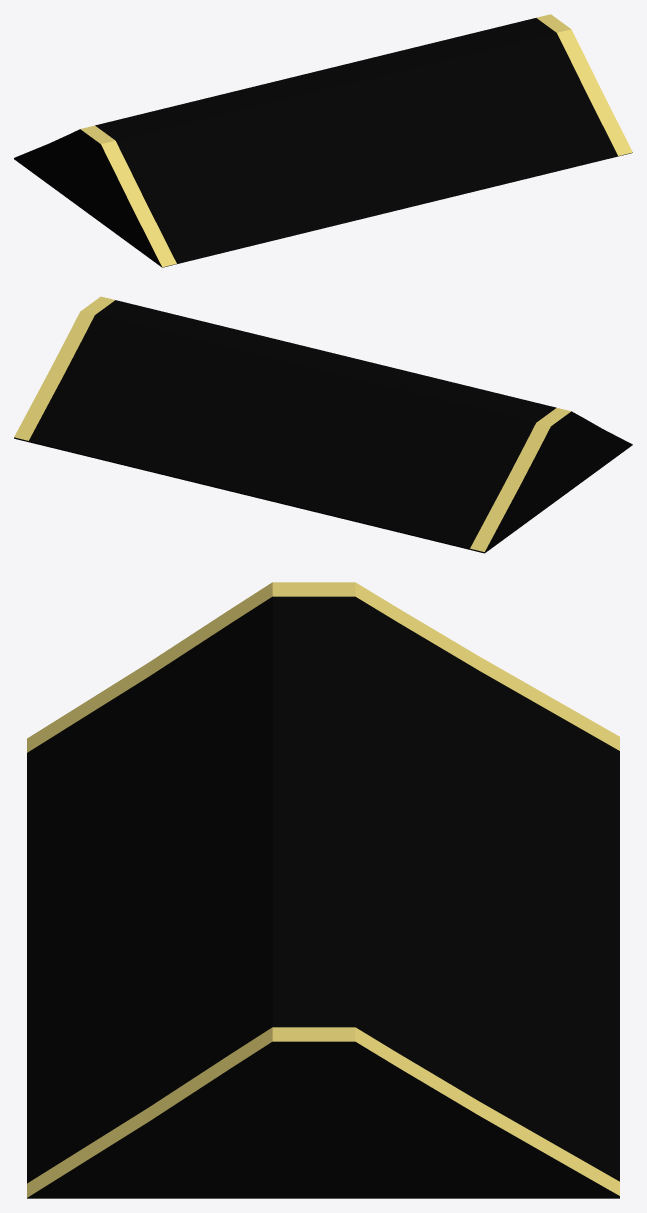
Rendered from SmallJumpingMaterial.fbx.
3 renders of one model, top to bottom at view 1: azimuth 30°, elevation 25°; view 2: azimuth 150°, elevation 25°; view 3: azimuth 270°, elevation 25°, orthographic. The views are drawn at different scales.
Visible parts, largest first — view 1: ジャンプ台(小)エキサイトバイク; view 2: ジャンプ台(小)エキサイトバイク; view 3: ジャンプ台(小)エキサイトバイク.
Boxes of the visible parts, left/top/right/bottom form: ジャンプ台(小)エキサイトバイク: left=14, top=14, right=632, bottom=267; ジャンプ台(小)エキサイトバイク: left=14, top=296, right=632, bottom=553; ジャンプ台(小)エキサイトバイク: left=27, top=582, right=619, bottom=1198.
Bounding box in the file's own units: 12.53 × 2 × 6.84.
